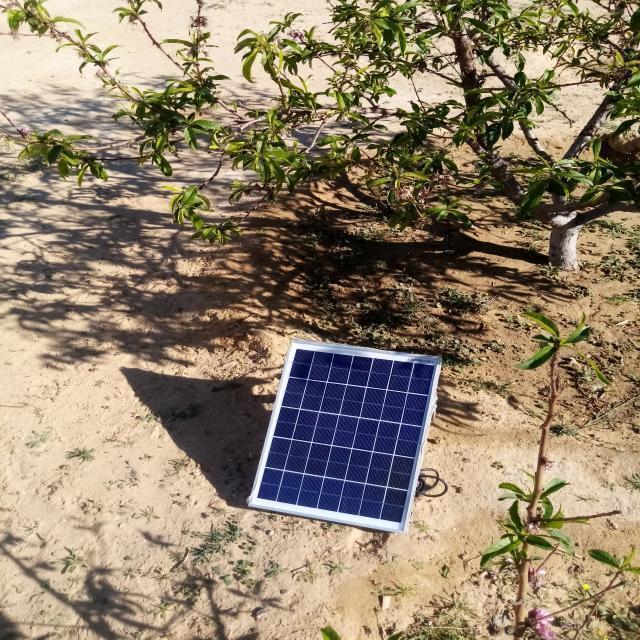Normal Solar Panel: (247, 340, 441, 533)
